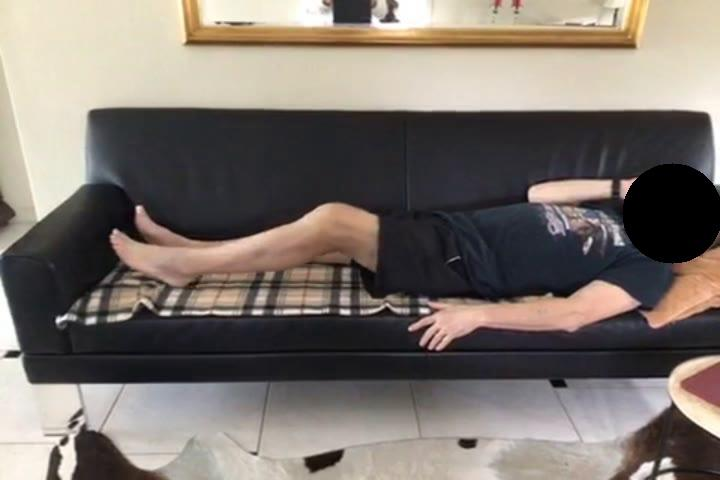lower_body: (111, 200, 475, 299)
